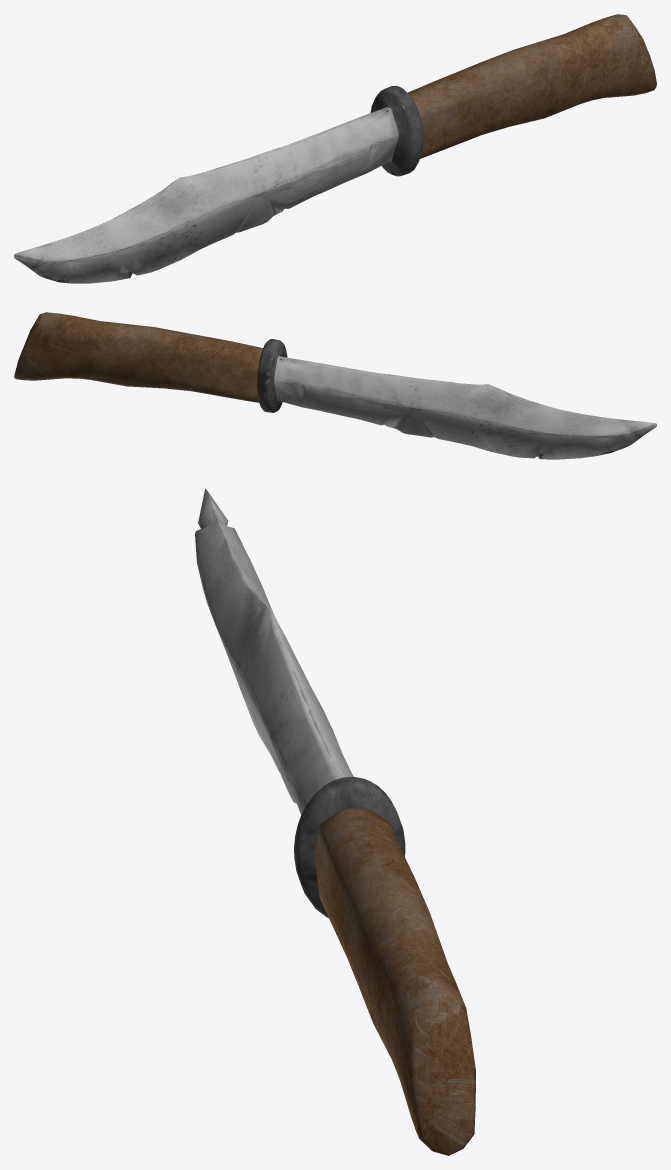
File: Dagger.fbx
3 views of the same model, one above another, from view 1: azimuth 30°, elevation 25°; view 2: azimuth 150°, elevation 25°; view 3: azimuth 270°, elevation 25° (orthographic). The views are drawn at different scales.
Parts seen in each view (by area): view 1: ezzzez; view 2: ezzzez; view 3: ezzzez.
Boxes of the visible parts, x1,y1,x2,y2 form: ezzzez: (14,14,656,283); ezzzez: (14,312,656,459); ezzzez: (195,488,475,1155).
Size of the model in its own units: 1963 by 250 by 411.
